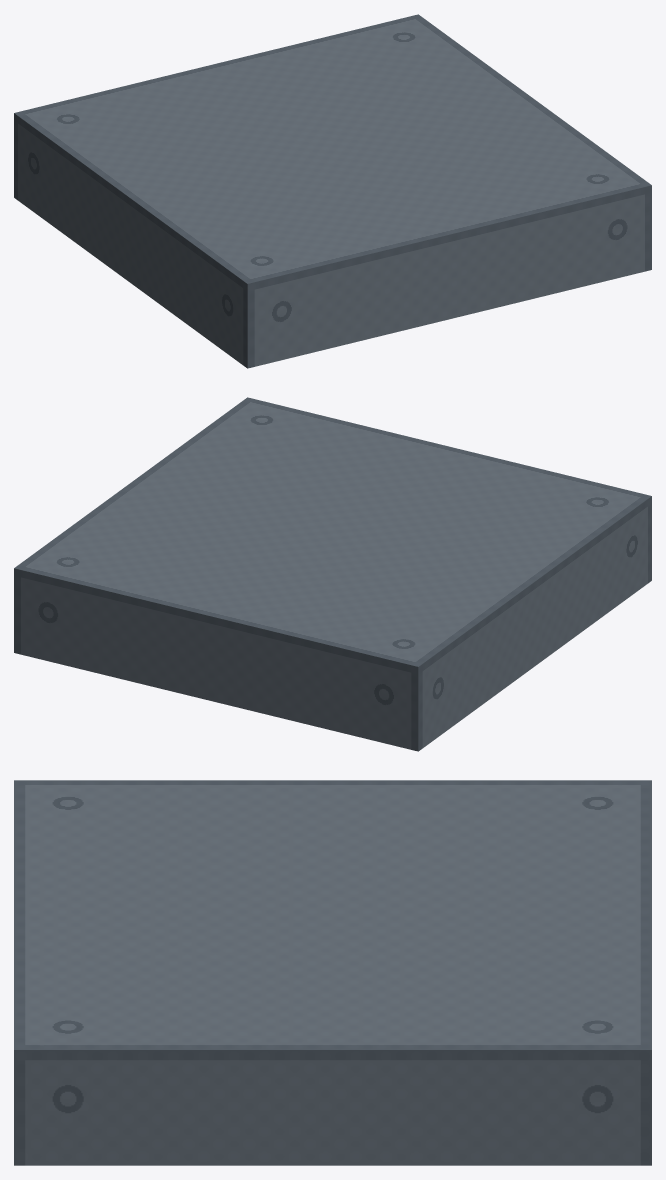
The model's file is C01_SHI_F01_FLOOR_BASIC_v004.glb.
The picture shows the model from 3 angles, top to bottom: view 1: azimuth 30°, elevation 25°; view 2: azimuth 150°, elevation 25°; view 3: azimuth 270°, elevation 25°; orthographic projection. The views are drawn at different scales.
Parts seen in each view (by area): view 1: C01_SHI_F01_FLOOR_BASIC_v002; view 2: C01_SHI_F01_FLOOR_BASIC_v002; view 3: C01_SHI_F01_FLOOR_BASIC_v002.
Part boxes in pixels (bbox=[...]): C01_SHI_F01_FLOOR_BASIC_v002: bbox=[14, 14, 651, 368]; C01_SHI_F01_FLOOR_BASIC_v002: bbox=[14, 397, 651, 751]; C01_SHI_F01_FLOOR_BASIC_v002: bbox=[14, 780, 651, 1165].
Size of the model in its own units: 1 by 0.2 by 1.
2 materials, 2 textured.
